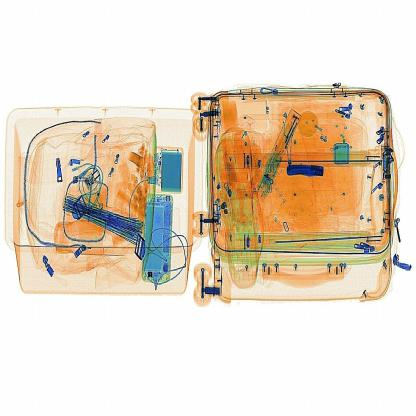knife: (286, 154, 328, 182)
